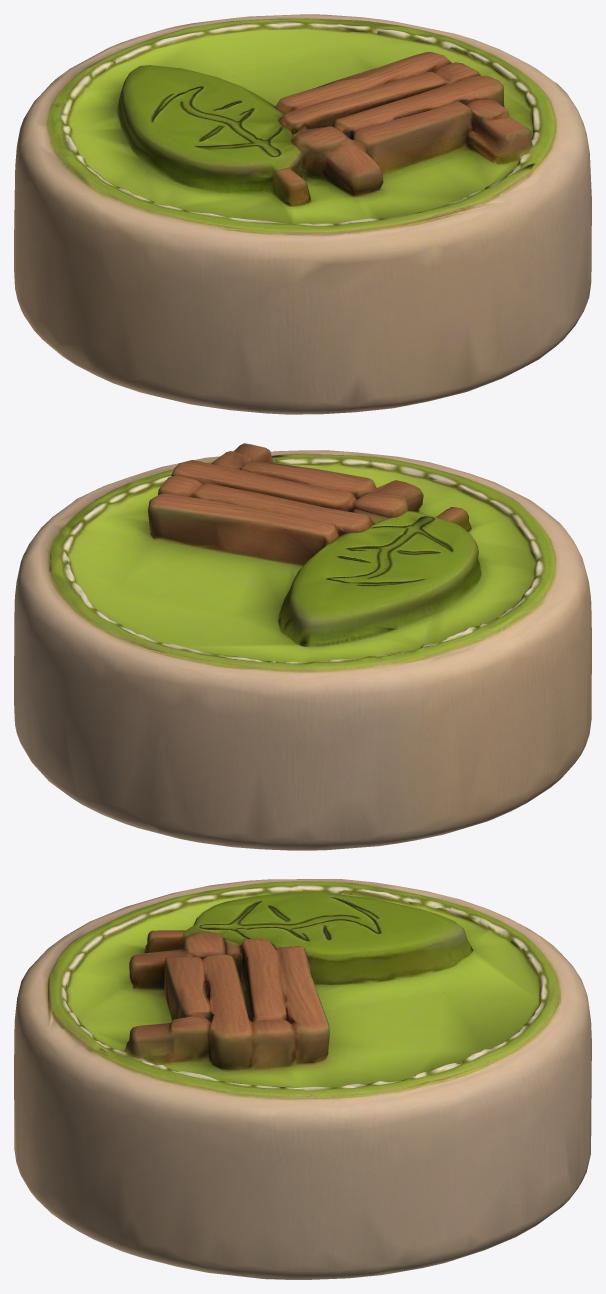
The model's file is space-rest.glb.
3 views of the same model, one above another, from view 1: azimuth 30°, elevation 25°; view 2: azimuth 150°, elevation 25°; view 3: azimuth 270°, elevation 25° (orthographic).
Parts seen in each view (by area): view 1: Mesh_0; view 2: Mesh_0; view 3: Mesh_0.
Part boxes in pixels (left/top/right/bottom): Mesh_0: left=14, top=14, right=591, bottom=414; Mesh_0: left=14, top=443, right=591, bottom=850; Mesh_0: left=14, top=879, right=591, bottom=1279.
Size of the model in its own units: 2 by 0.8194 by 2.
Materials: 1 (1 with a texture image).
